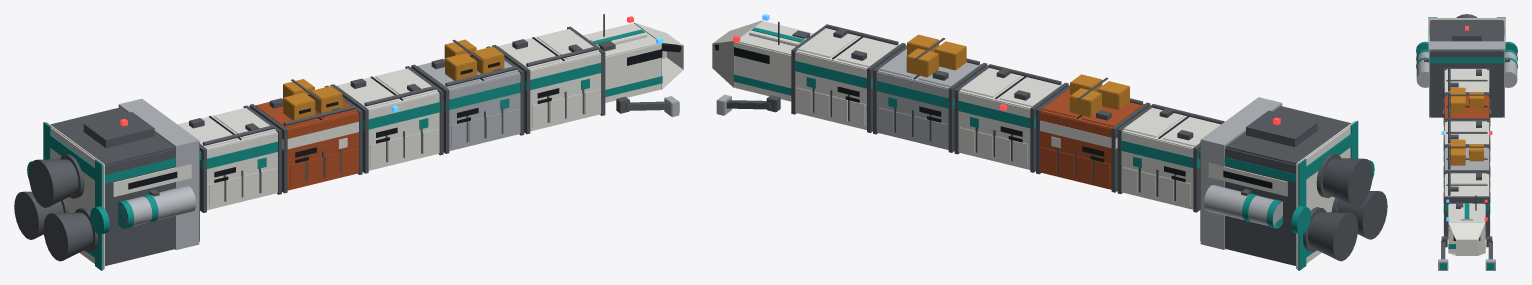
Rendered from hauler.glb.
3 renders of one model, left to right at view 1: azimuth 30°, elevation 25°; view 2: azimuth 150°, elevation 25°; view 3: azimuth 270°, elevation 25°, orthographic. The views are drawn at different scales.
Visible parts, largest first — view 1: hauler_hull_white, hauler_steel, hauler_pale_grey, hauler_guild_teal, hauler_rust_orange, hauler_deck_crate, hauler_stencil_black, hauler_window_dark; view 2: hauler_hull_white, hauler_steel, hauler_pale_grey, hauler_guild_teal, hauler_rust_orange, hauler_deck_crate, hauler_stencil_black, hauler_window_dark; view 3: hauler_steel, hauler_hull_white, hauler_pale_grey, hauler_deck_crate, hauler_guild_teal, hauler_rust_orange, hauler_plate_seam, hauler_stencil_black.
Boxes of the visible parts, box(x1,y1,x2,y2) form: hauler_hull_white: box(45, 22, 683, 269); hauler_steel: box(14, 14, 669, 265); hauler_pale_grey: box(118, 59, 679, 249); hauler_guild_teal: box(27, 29, 679, 270); hauler_rust_orange: box(255, 98, 358, 190); hauler_deck_crate: box(283, 39, 504, 120); hauler_stencil_black: box(214, 55, 559, 182); hauler_window_dark: box(128, 43, 681, 189); hauler_hull_white: box(712, 20, 1355, 269); hauler_steel: box(726, 21, 1387, 265); hauler_pale_grey: box(716, 49, 1282, 249); hauler_guild_teal: box(733, 27, 1374, 270); hauler_rust_orange: box(1040, 88, 1144, 189); hauler_deck_crate: box(906, 34, 1129, 117); hauler_stencil_black: box(837, 86, 1185, 182); hauler_window_dark: box(714, 44, 1272, 188); hauler_steel: box(1424, 14, 1509, 259); hauler_hull_white: box(1428, 18, 1505, 255); hauler_pale_grey: box(1416, 41, 1517, 270); hauler_deck_crate: box(1450, 87, 1483, 165); hauler_guild_teal: box(1416, 17, 1517, 269); hauler_rust_orange: box(1443, 95, 1490, 139); hauler_plate_seam: box(1446, 80, 1487, 185); hauler_stencil_black: box(1443, 88, 1490, 203).
Size of the model in its own units: 65.1 by 11.45 by 13.7.
